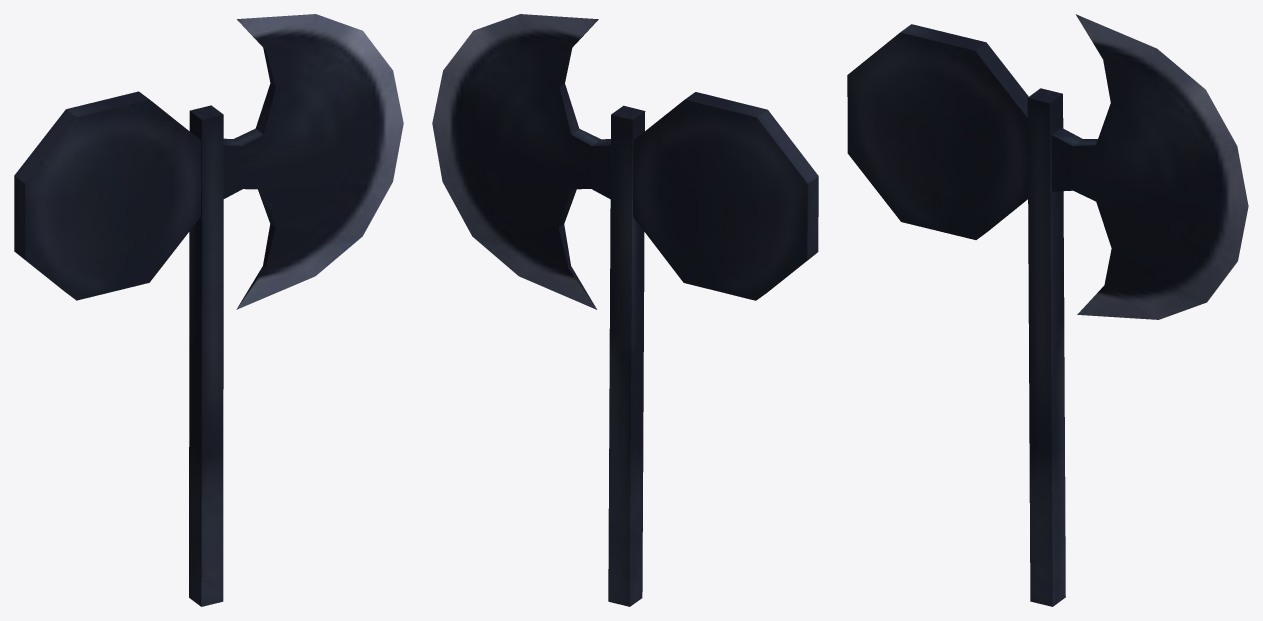
Rendered from Silah.fbx.
The picture shows the model from 3 angles, left to right: view 1: azimuth 30°, elevation 25°; view 2: azimuth 150°, elevation 25°; view 3: azimuth 330°, elevation 25°; orthographic projection. The views are drawn at different scales.
Parts seen in each view (by area): view 1: Object.003; view 2: Object.003; view 3: Object.003.
Part boxes in pixels (x1,y1,x2,y2): Object.003: [14, 14, 403, 606]; Object.003: [432, 14, 818, 606]; Object.003: [847, 14, 1248, 606].
Size of the model in its own units: 72.8 by 104 by 4.68.
1 material, 1 textured.
